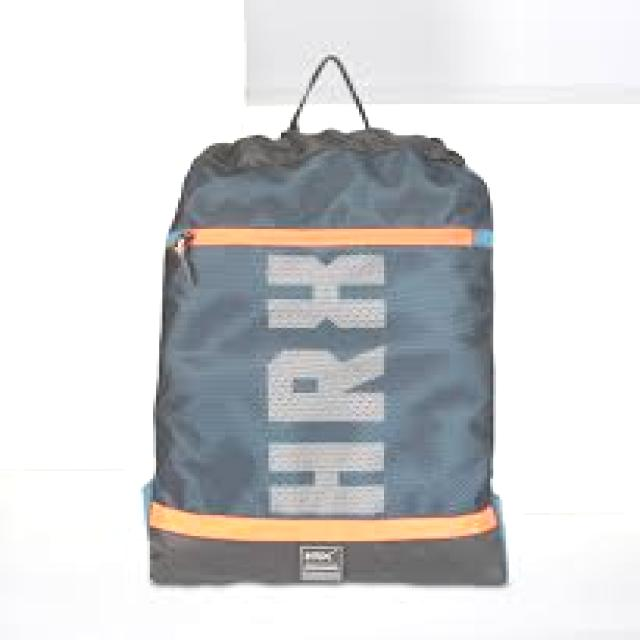backpack: (144, 53, 510, 587)
